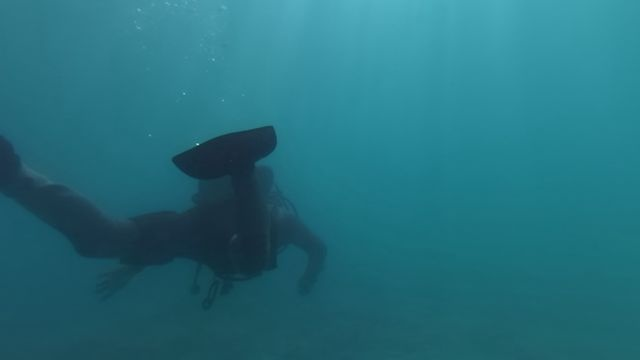Diver: (3, 77, 348, 316)
Hand: (87, 262, 146, 304)
